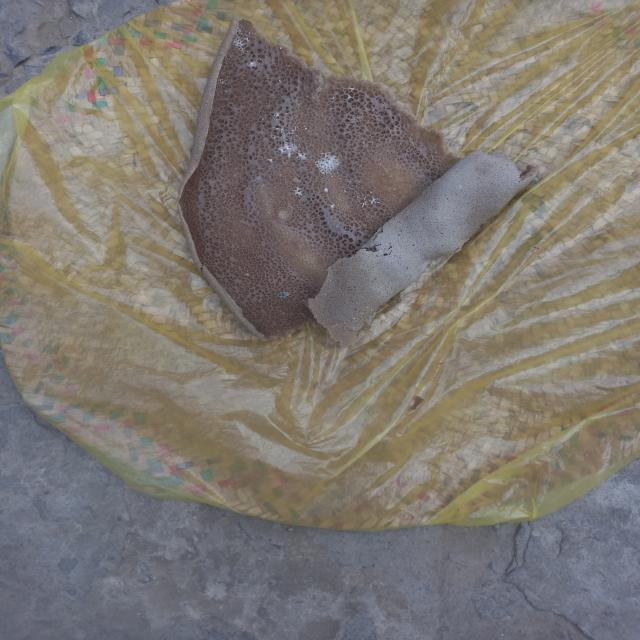injera_mold: (315, 150, 340, 176), (278, 140, 307, 160), (232, 27, 250, 53), (275, 124, 309, 135), (359, 192, 379, 209), (342, 85, 358, 102), (278, 289, 292, 301), (321, 186, 333, 196), (242, 268, 255, 276), (294, 185, 302, 197), (253, 174, 265, 182), (248, 60, 258, 69), (218, 77, 228, 85), (329, 202, 337, 211), (456, 184, 464, 192), (274, 112, 282, 120), (353, 187, 358, 199), (281, 136, 291, 141), (267, 157, 275, 163), (224, 54, 228, 66), (377, 162, 384, 168), (359, 311, 364, 319), (270, 134, 278, 139), (284, 63, 292, 68), (422, 177, 428, 182), (423, 263, 428, 269), (330, 95, 335, 101), (306, 187, 313, 191), (343, 189, 348, 194), (262, 123, 268, 127), (278, 78, 282, 84), (261, 116, 266, 120), (224, 90, 229, 94), (230, 85, 233, 91), (359, 164, 363, 168), (304, 180, 308, 184), (344, 156, 348, 160), (285, 112, 289, 116), (392, 188, 397, 191), (349, 180, 352, 185), (269, 88, 274, 91), (352, 317, 356, 320), (353, 327, 359, 329), (375, 210, 378, 214), (357, 204, 360, 208), (282, 161, 286, 164), (367, 172, 371, 175), (214, 197, 218, 200), (260, 97, 264, 100), (362, 141, 366, 144), (338, 177, 343, 179), (343, 326, 346, 329), (370, 295, 373, 298), (262, 200, 265, 203), (284, 70, 287, 73), (411, 141, 414, 144), (324, 292, 326, 296), (335, 225, 339, 227), (280, 46, 282, 50), (298, 81, 302, 83), (230, 78, 234, 80), (366, 306, 369, 308), (343, 307, 346, 309), (347, 216, 350, 218), (296, 204, 298, 207), (345, 152, 348, 154), (348, 210, 351, 212), (306, 95, 309, 97), (293, 114, 296, 116), (282, 313, 285, 315), (305, 114, 308, 116), (255, 54, 258, 56), (259, 58, 262, 60), (435, 151, 437, 154), (370, 309, 372, 311), (390, 282, 392, 284), (335, 311, 337, 313), (344, 322, 346, 324), (370, 279, 372, 281), (372, 268, 376, 269), (386, 293, 388, 295), (289, 218, 291, 220), (346, 168, 348, 170), (234, 84, 236, 86), (252, 81, 254, 83), (296, 86, 298, 88), (311, 85, 313, 87), (333, 110, 335, 112), (277, 104, 279, 106), (381, 292, 383, 293), (341, 315, 343, 316), (338, 319, 340, 320), (358, 319, 360, 320), (234, 175, 236, 176), (235, 95, 236, 97), (351, 306, 352, 307), (368, 299, 369, 300), (362, 320, 364, 320), (318, 211, 318, 213)
